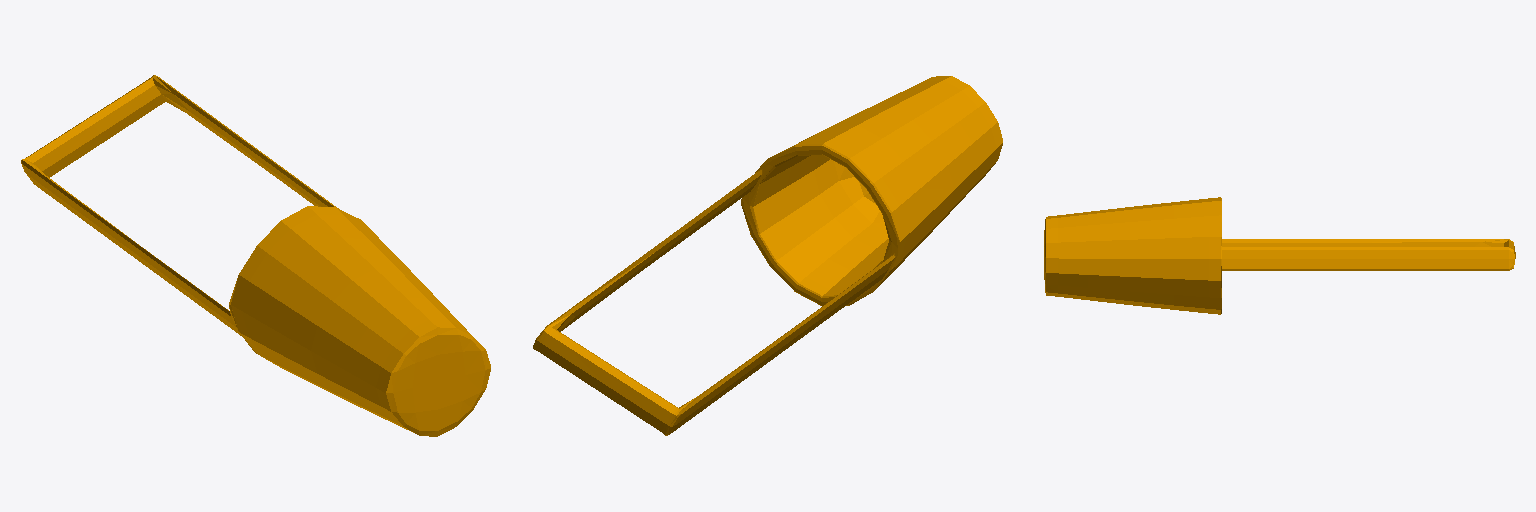
robot.urdf — 292:
<?xml version="1.0" ?>
<robot name="292">
  <link name="body">
    <visual>
      <geometry>
        <mesh filename="../shapes/292.obj"/>
      </geometry>
    </visual>
    <collision>
      <geometry>
        <mesh filename="../shapes/292.obj"/>
      </geometry>
    </collision>
  </link>
</robot>

--- What the picture shows (computed from the rendered views, not written in the file) ---
Views: 3 orthographic renders of the robot side by side, from view 1: azimuth 30°, elevation 25°; view 2: azimuth 150°, elevation 25°; view 3: azimuth 270°, elevation 25°.
Robot: 292 — 1 links, 0 joints (none); root link body; default pose: every joint at zero.
Visible links, largest first — view 1: body; view 2: body; view 3: body.
Link boxes in pixels (box(x1,y1,x2,y2)): body: box(21, 75, 490, 436); body: box(533, 76, 1002, 435); body: box(1044, 197, 1515, 314).
Bounding box of the posed robot: 2.88 × 10.86 × 2.8 m (x, y, z).
1 mesh visuals loaded from 1 distinct referenced files (1 OBJ).